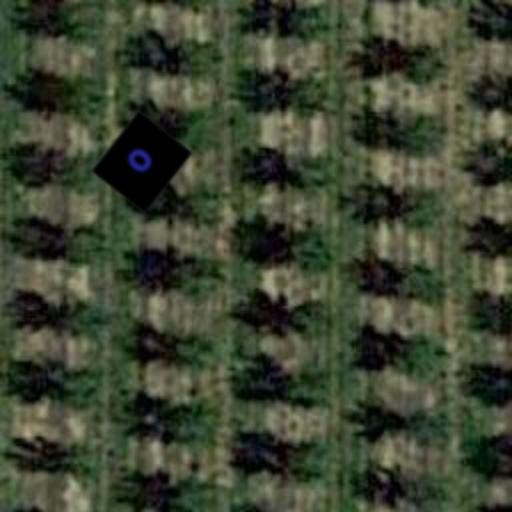rectangle: (86, 106, 198, 218)
